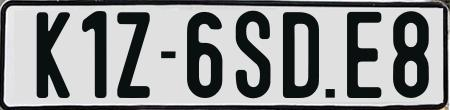1: (79, 10, 106, 100)
6: (187, 9, 228, 101)
8: (391, 10, 430, 103)
D: (282, 9, 320, 100)
E: (344, 9, 382, 97)
K: (37, 9, 75, 100)
S: (234, 9, 271, 97)
Z: (115, 10, 153, 97)
